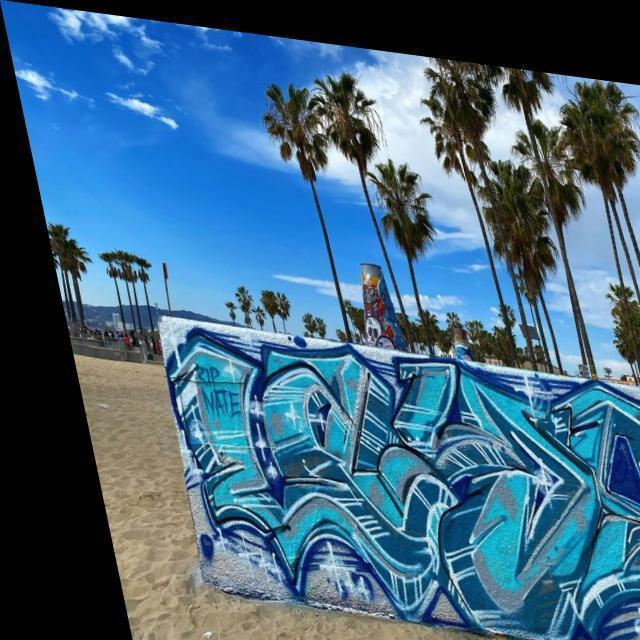nonspitting: (166, 329, 640, 639)
